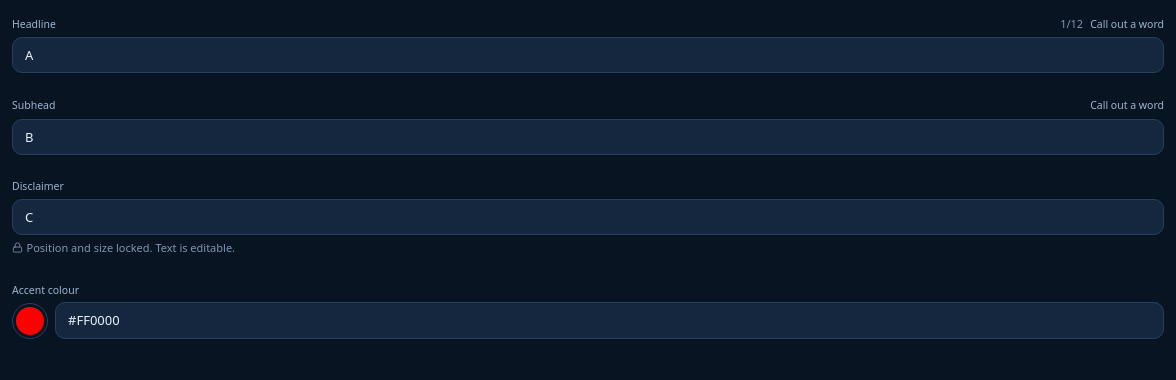
Inspector (generated from the schema) › enforces maxChars: the input is capped and longer input is truncated
The width and height of the screenshot is (1176, 380).
Replace the text in the field labelled "Headline" with "THIS IS FAR TOO LONG" at coordinates (588, 55), box x1=12 y1=37 x2=1164 y2=73
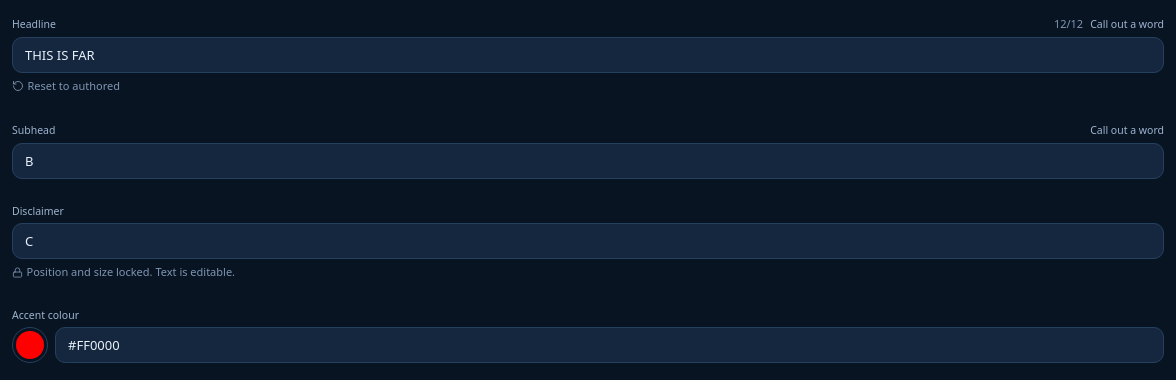
Expected: the field labelled "Headline" holds "THIS IS FAR ", x1=12 y1=37 x2=1164 y2=73
Expected: the text "12/12" is shown, x1=1054 y1=16 x2=1083 y2=30
